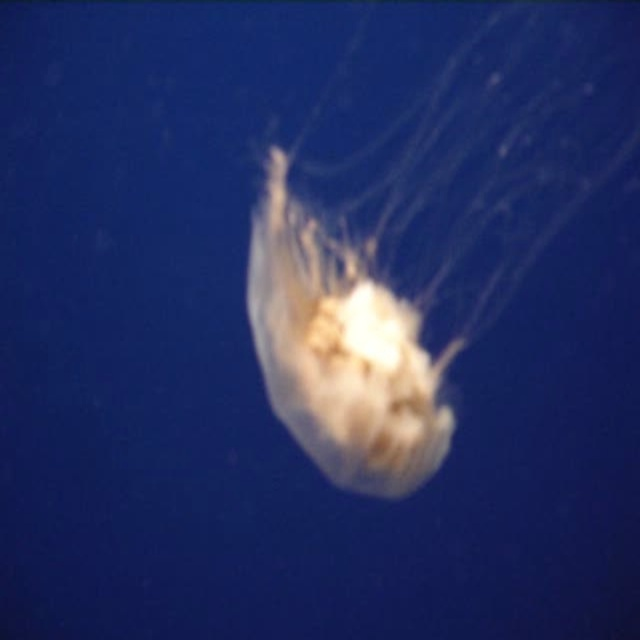Jellyfish: (245, 3, 637, 505)
